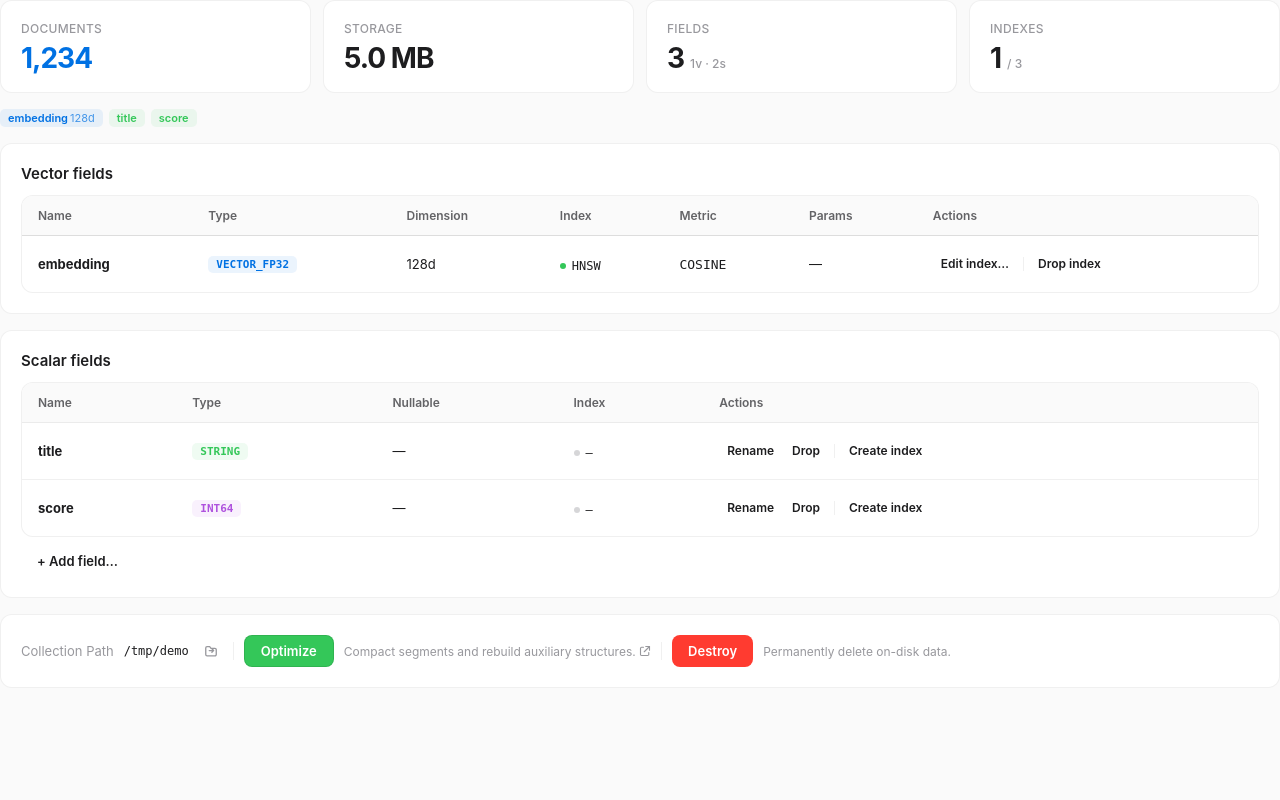
Test: OverviewTab › opens destroy dialog and requires name confirmation
Click the button "Destroy": click(713, 651) [672,635,753,667]
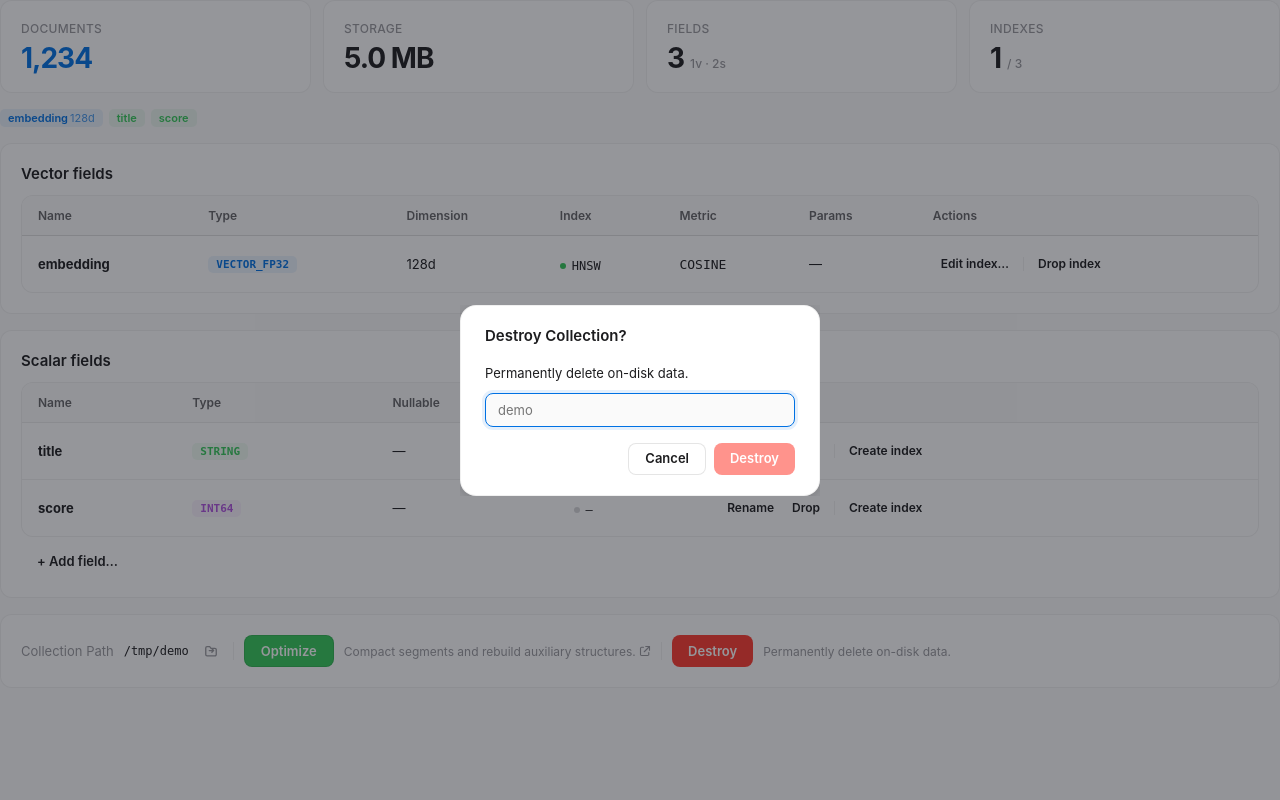
Now the button "Destroy" is disabled, box [714,442,795,474]
# Type wrong name — button still disabled
In the field with placeholder "demo": (640, 410) [485,392,795,426], type "wrong"
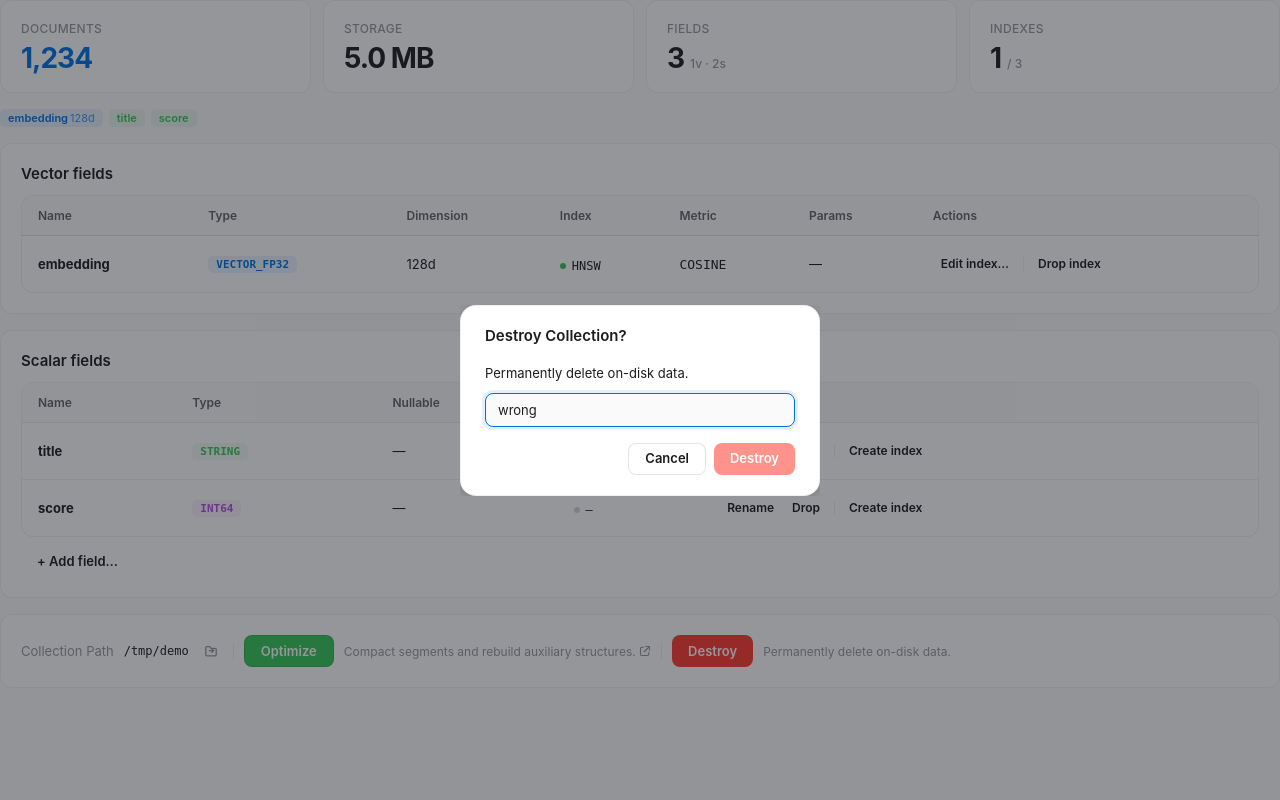
Now the button "Destroy" is disabled, box [714,442,795,474]
# Clear and type correct name
Replace the text in the field with placeholder "demo" with "demo": (640, 410) [485,392,795,426]
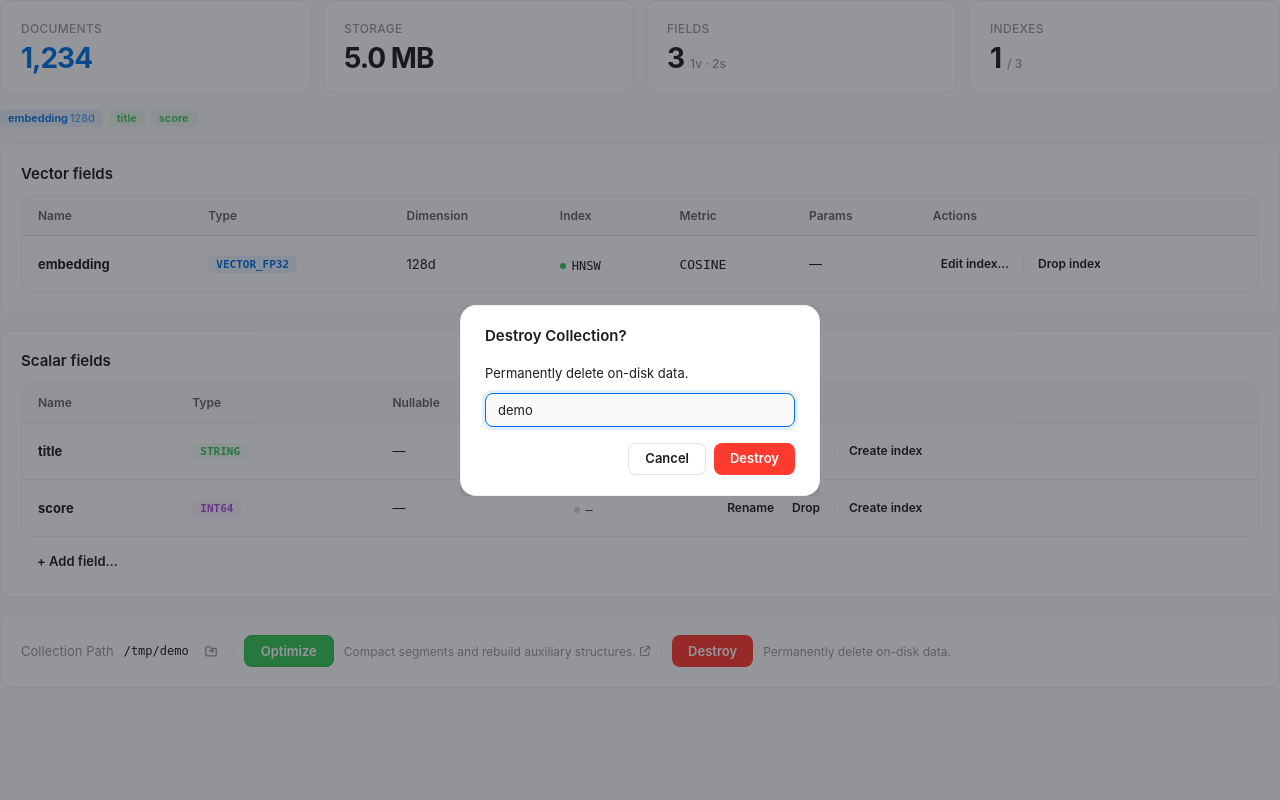
Now the button "Destroy" is enabled, box [714,442,795,474]
